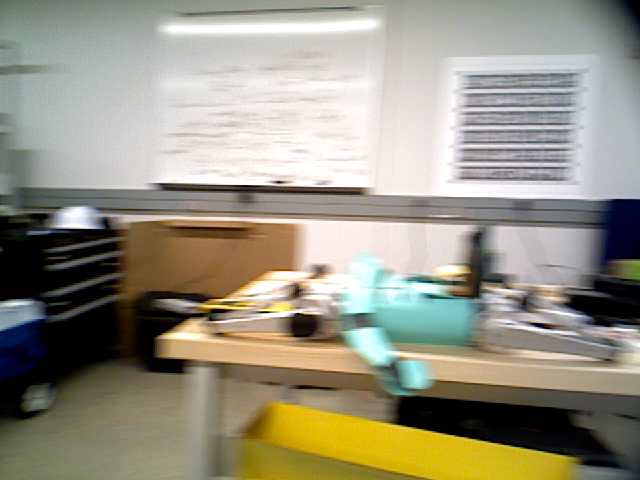painting4: (440, 56, 591, 199)
